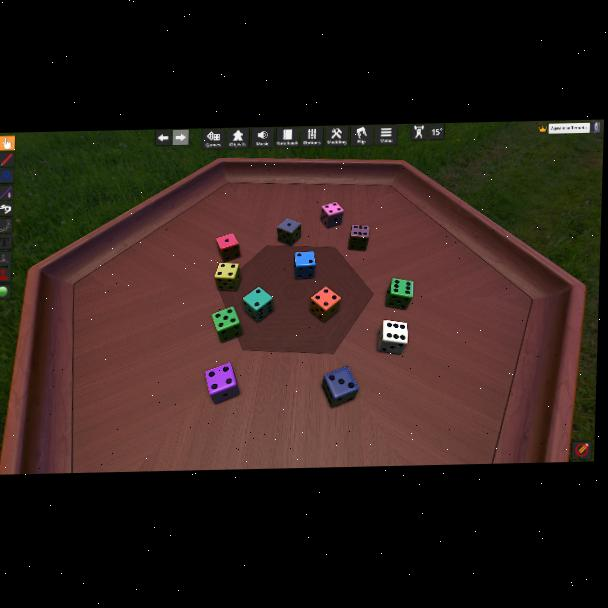d6: (203, 362, 240, 404), (322, 365, 359, 407), (211, 308, 243, 344), (242, 287, 274, 323), (309, 287, 340, 322), (379, 320, 409, 354), (385, 278, 413, 310), (214, 262, 241, 292), (215, 233, 240, 263), (277, 218, 301, 247), (320, 202, 343, 229), (294, 251, 316, 279), (348, 224, 370, 252)
